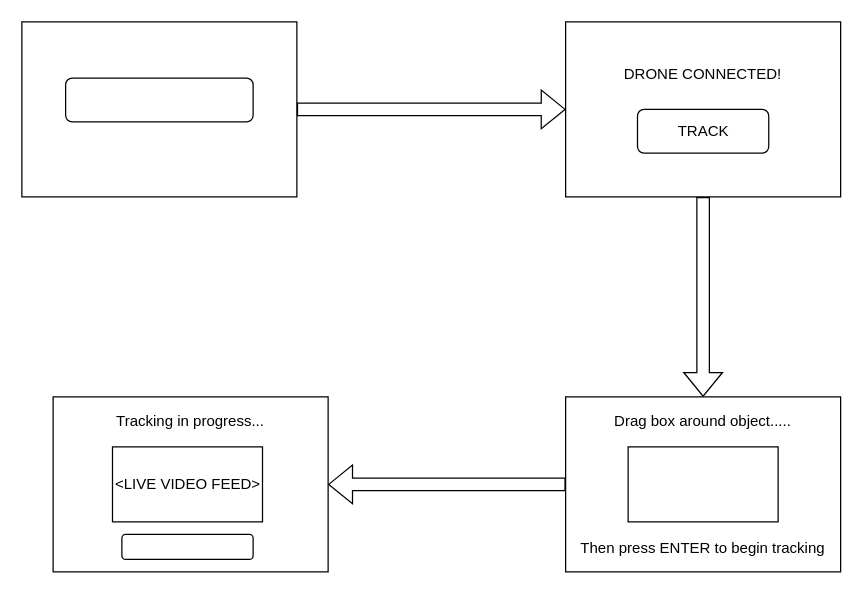
The diagram is 863 pixels wide and 594 high, and some of its shapes have lost their labels. The shapes that lost their labels are listed below. From the top down, each one's centre as x and y in pixels, then its label:
[158,99]: CONNECT
[702,484]: <INITIAL FRAME>
[187,546]: STOP
